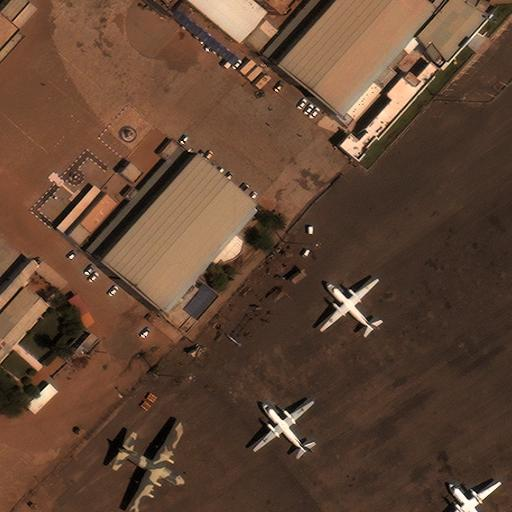Military Transport: (117, 424, 184, 512), (252, 399, 311, 451), (319, 277, 376, 330), (441, 481, 499, 512)
